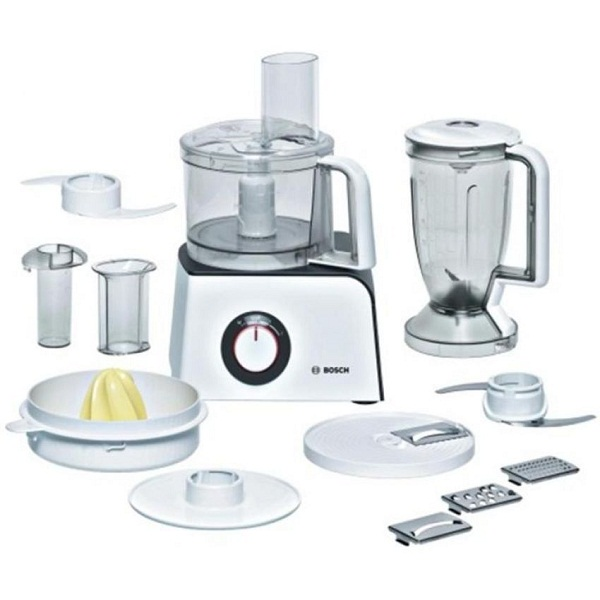Bosch: (317, 361, 364, 385)
